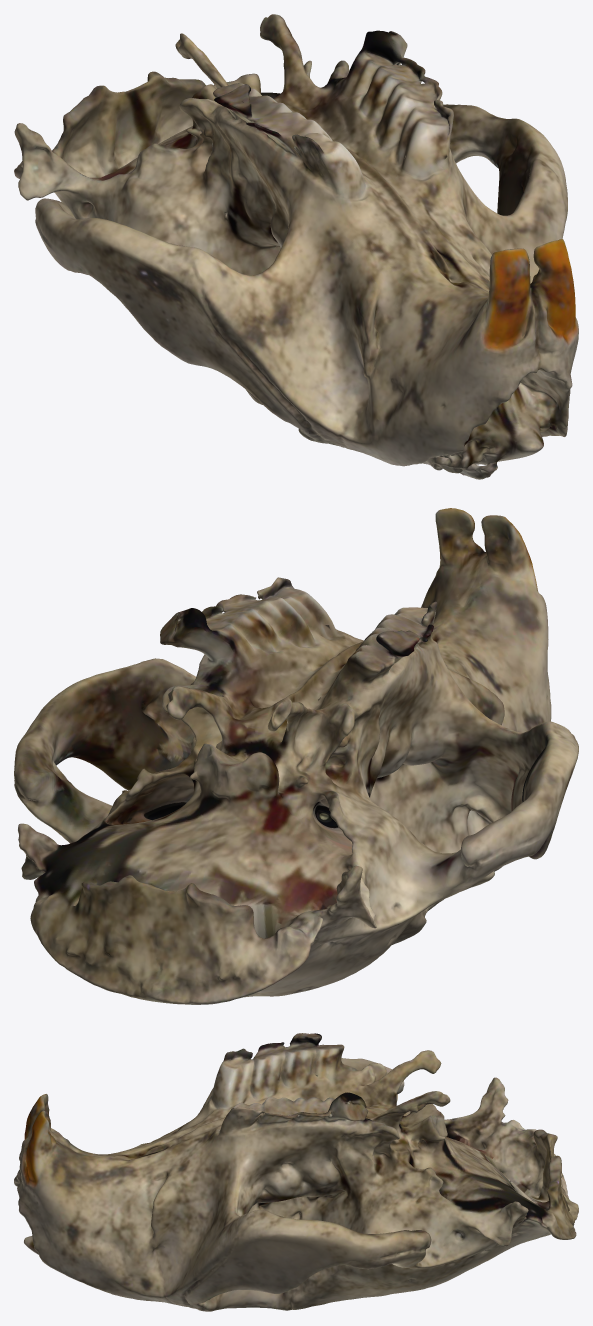
File: FINALSCANCraniumBeaver53-150k-2048-medium.glb
3 renders of one model, top to bottom at view 1: azimuth 30°, elevation 25°; view 2: azimuth 150°, elevation 25°; view 3: azimuth 270°, elevation 25°, orthographic. The views are drawn at different scales.
Bounding box in the file's own units: 77.29 × 49.87 × 109.
1 material, 1 textured.
